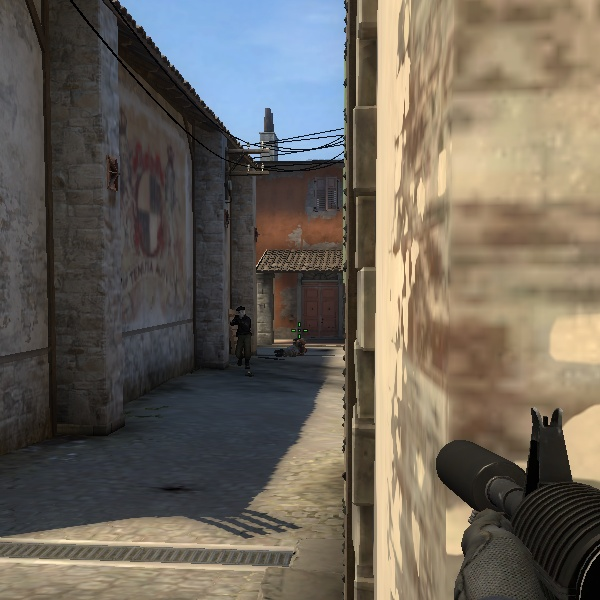ct_body: (227, 303, 256, 369)
